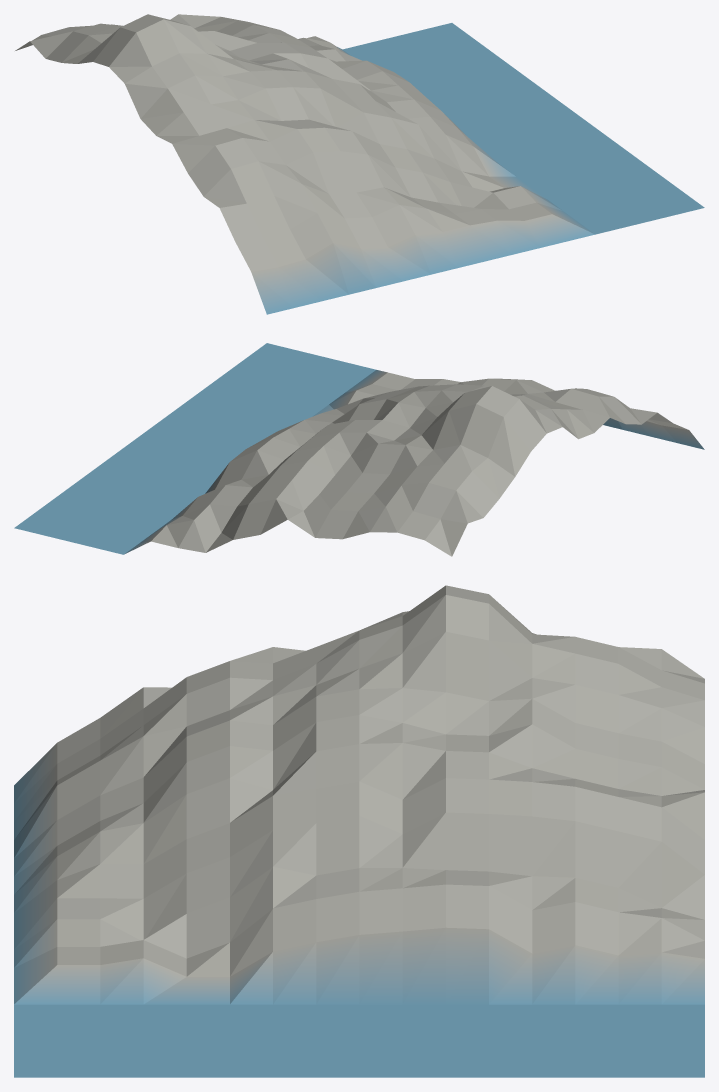
The picture shows the model from 3 angles, top to bottom: view 1: azimuth 30°, elevation 25°; view 2: azimuth 150°, elevation 25°; view 3: azimuth 270°, elevation 25°; orthographic projection. The views are drawn at different scales.
Size of the model in its own units: 32 by 11.61 by 32.
